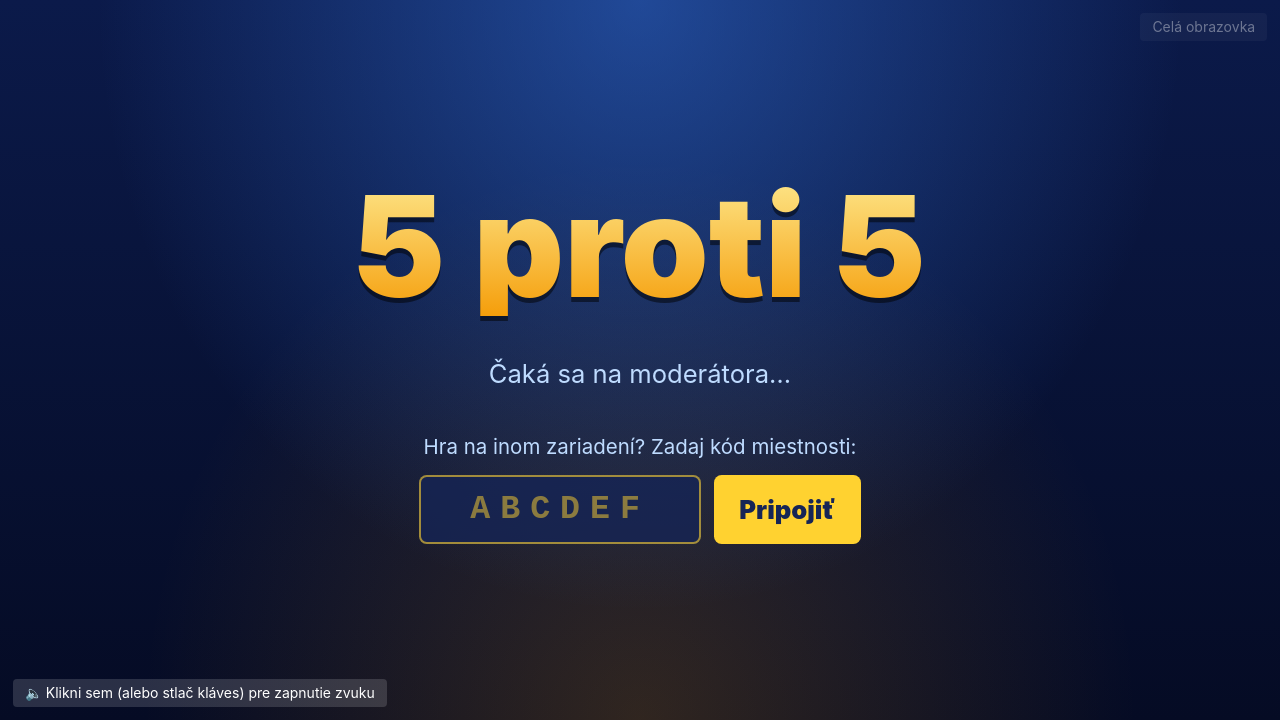
Test: BoardScreen rooms › joins a room by a typed code
Type "abc 0ef" into the field with id "room-code". click: (560, 510)
box: [419,475,701,544]
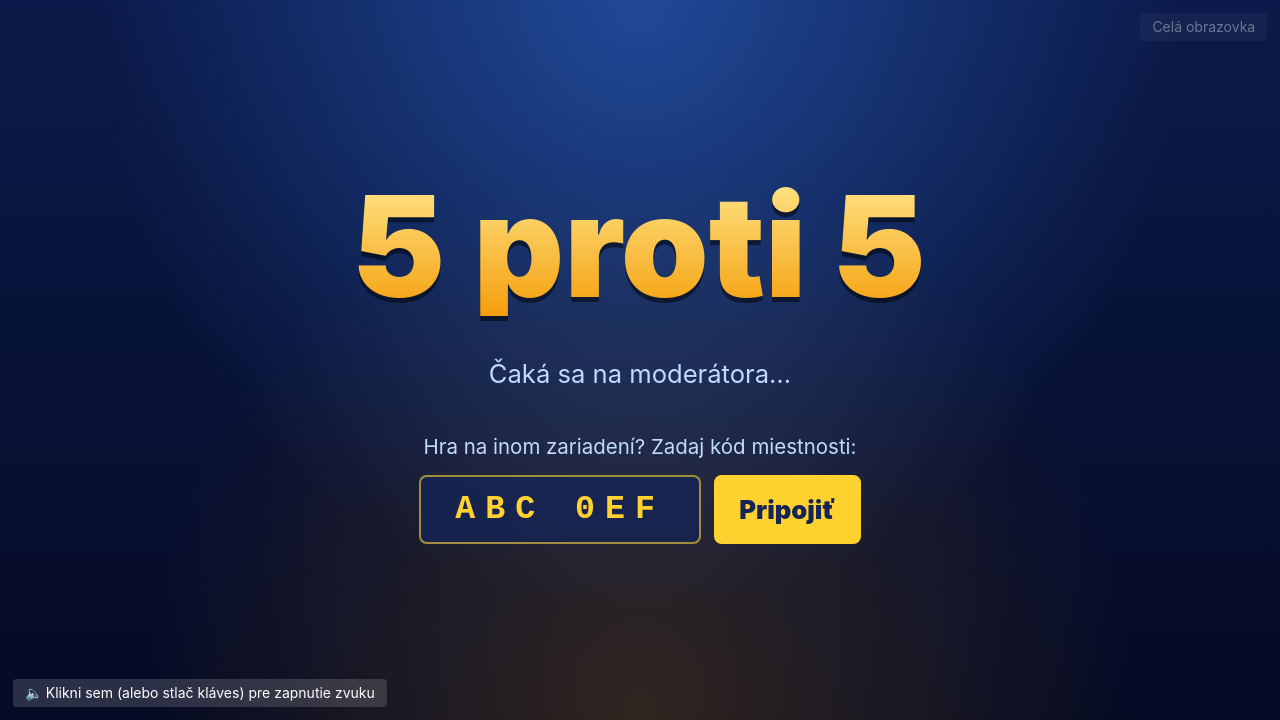
Submit the form, box [419,432,861,544]
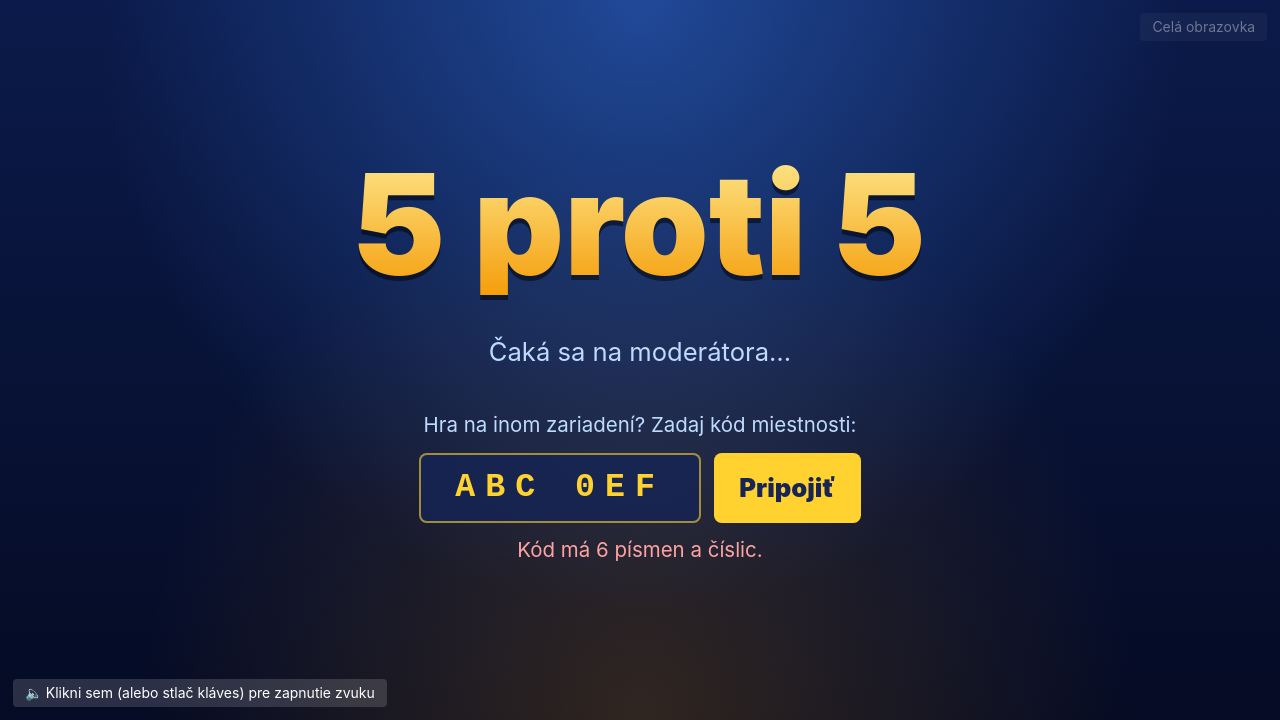
Expected: the text "Kód má 6 písmen a číslic" is shown, [517,537,763,562]
Replace the text in the field with id "room-code" with "abc-def". click: (560, 488)
box: [419,453,701,523]
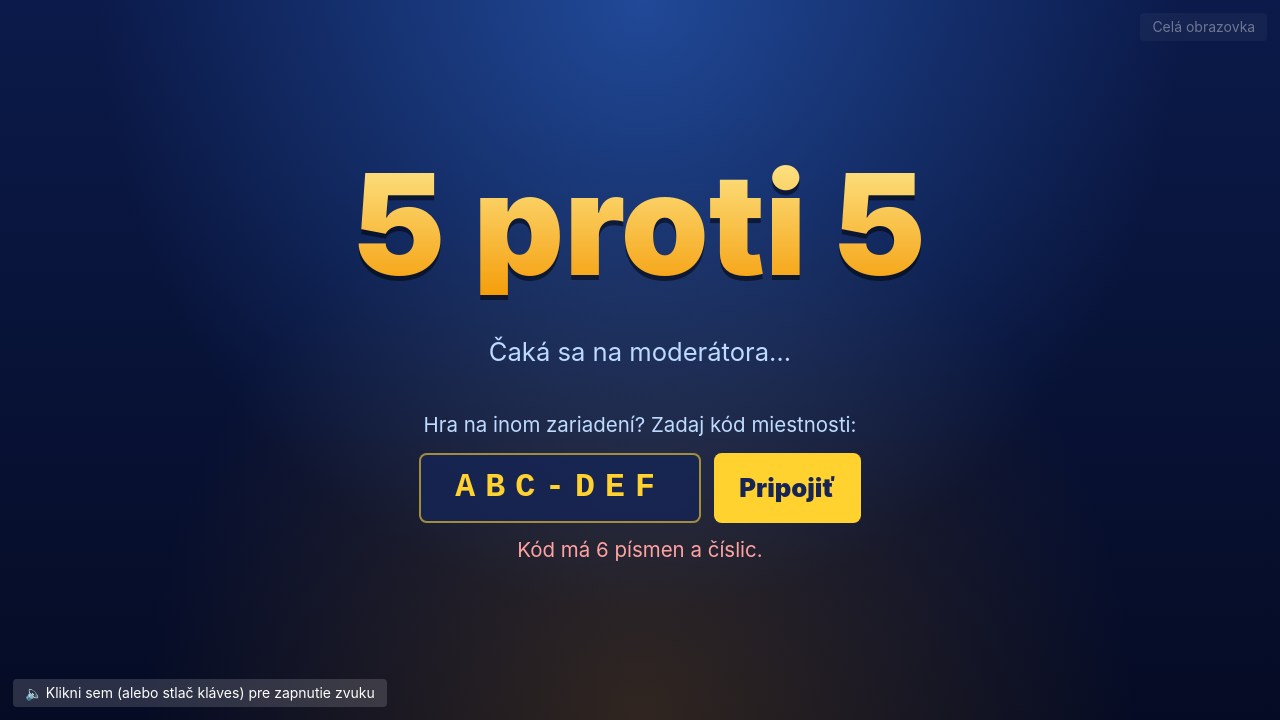
Submit the form, box [419,410,861,566]
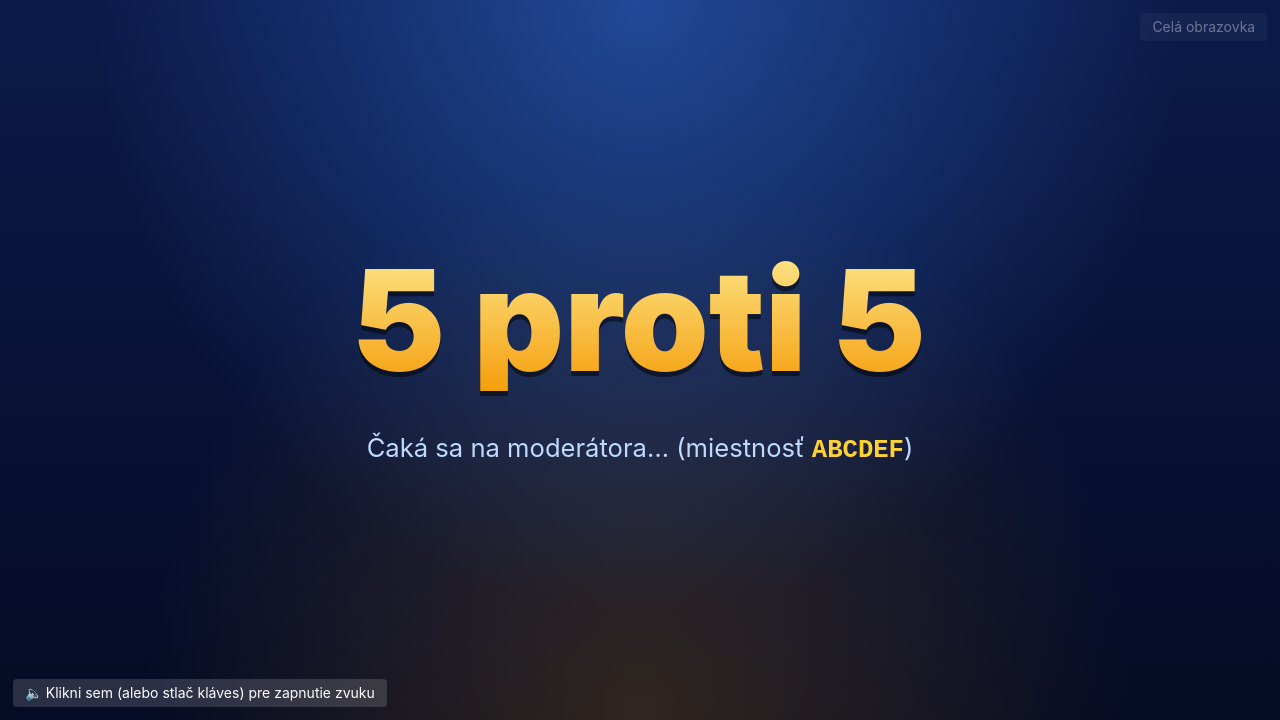
Expected: the text "ABCDEF" is shown, [812,436,904,465]
Expected: the text "miestnosť ABCDEF" is shown, [367,429,913,470]
